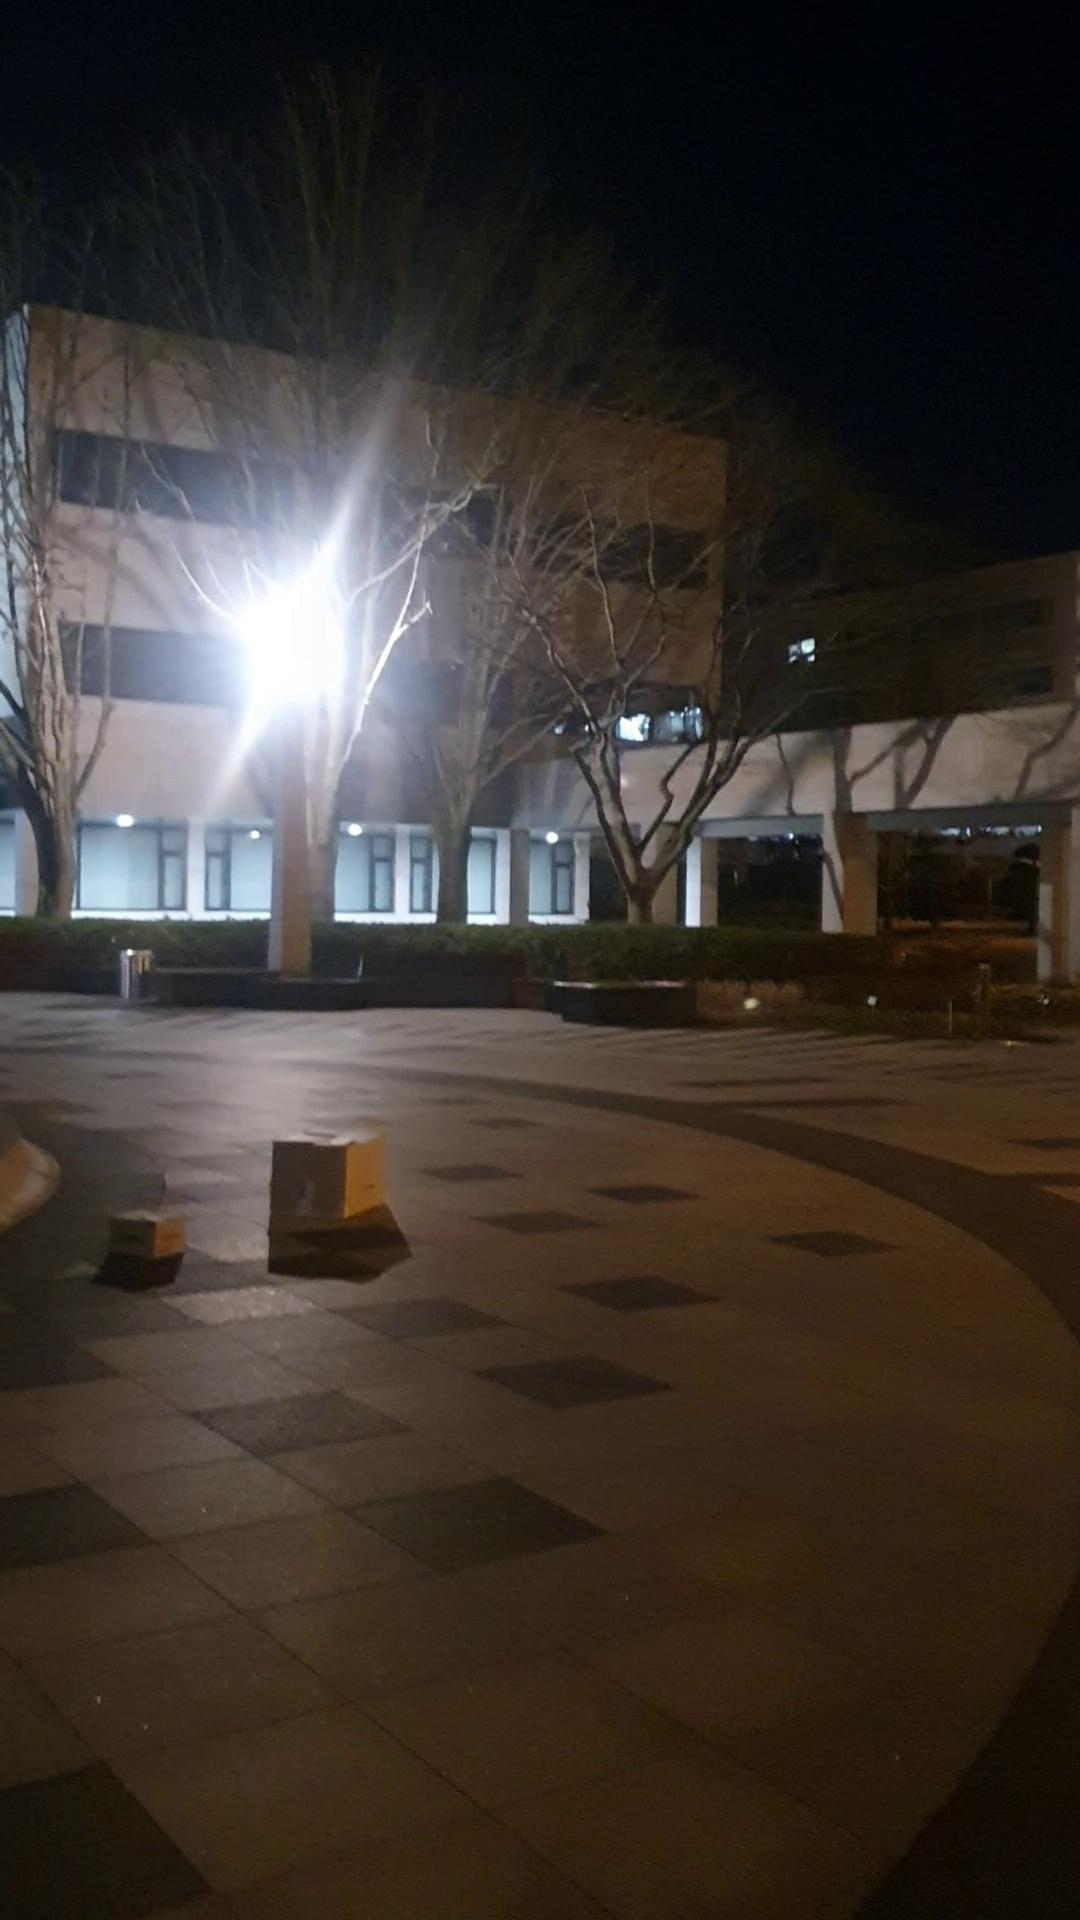Box: (266, 1116, 400, 1245), (102, 1200, 190, 1280)
